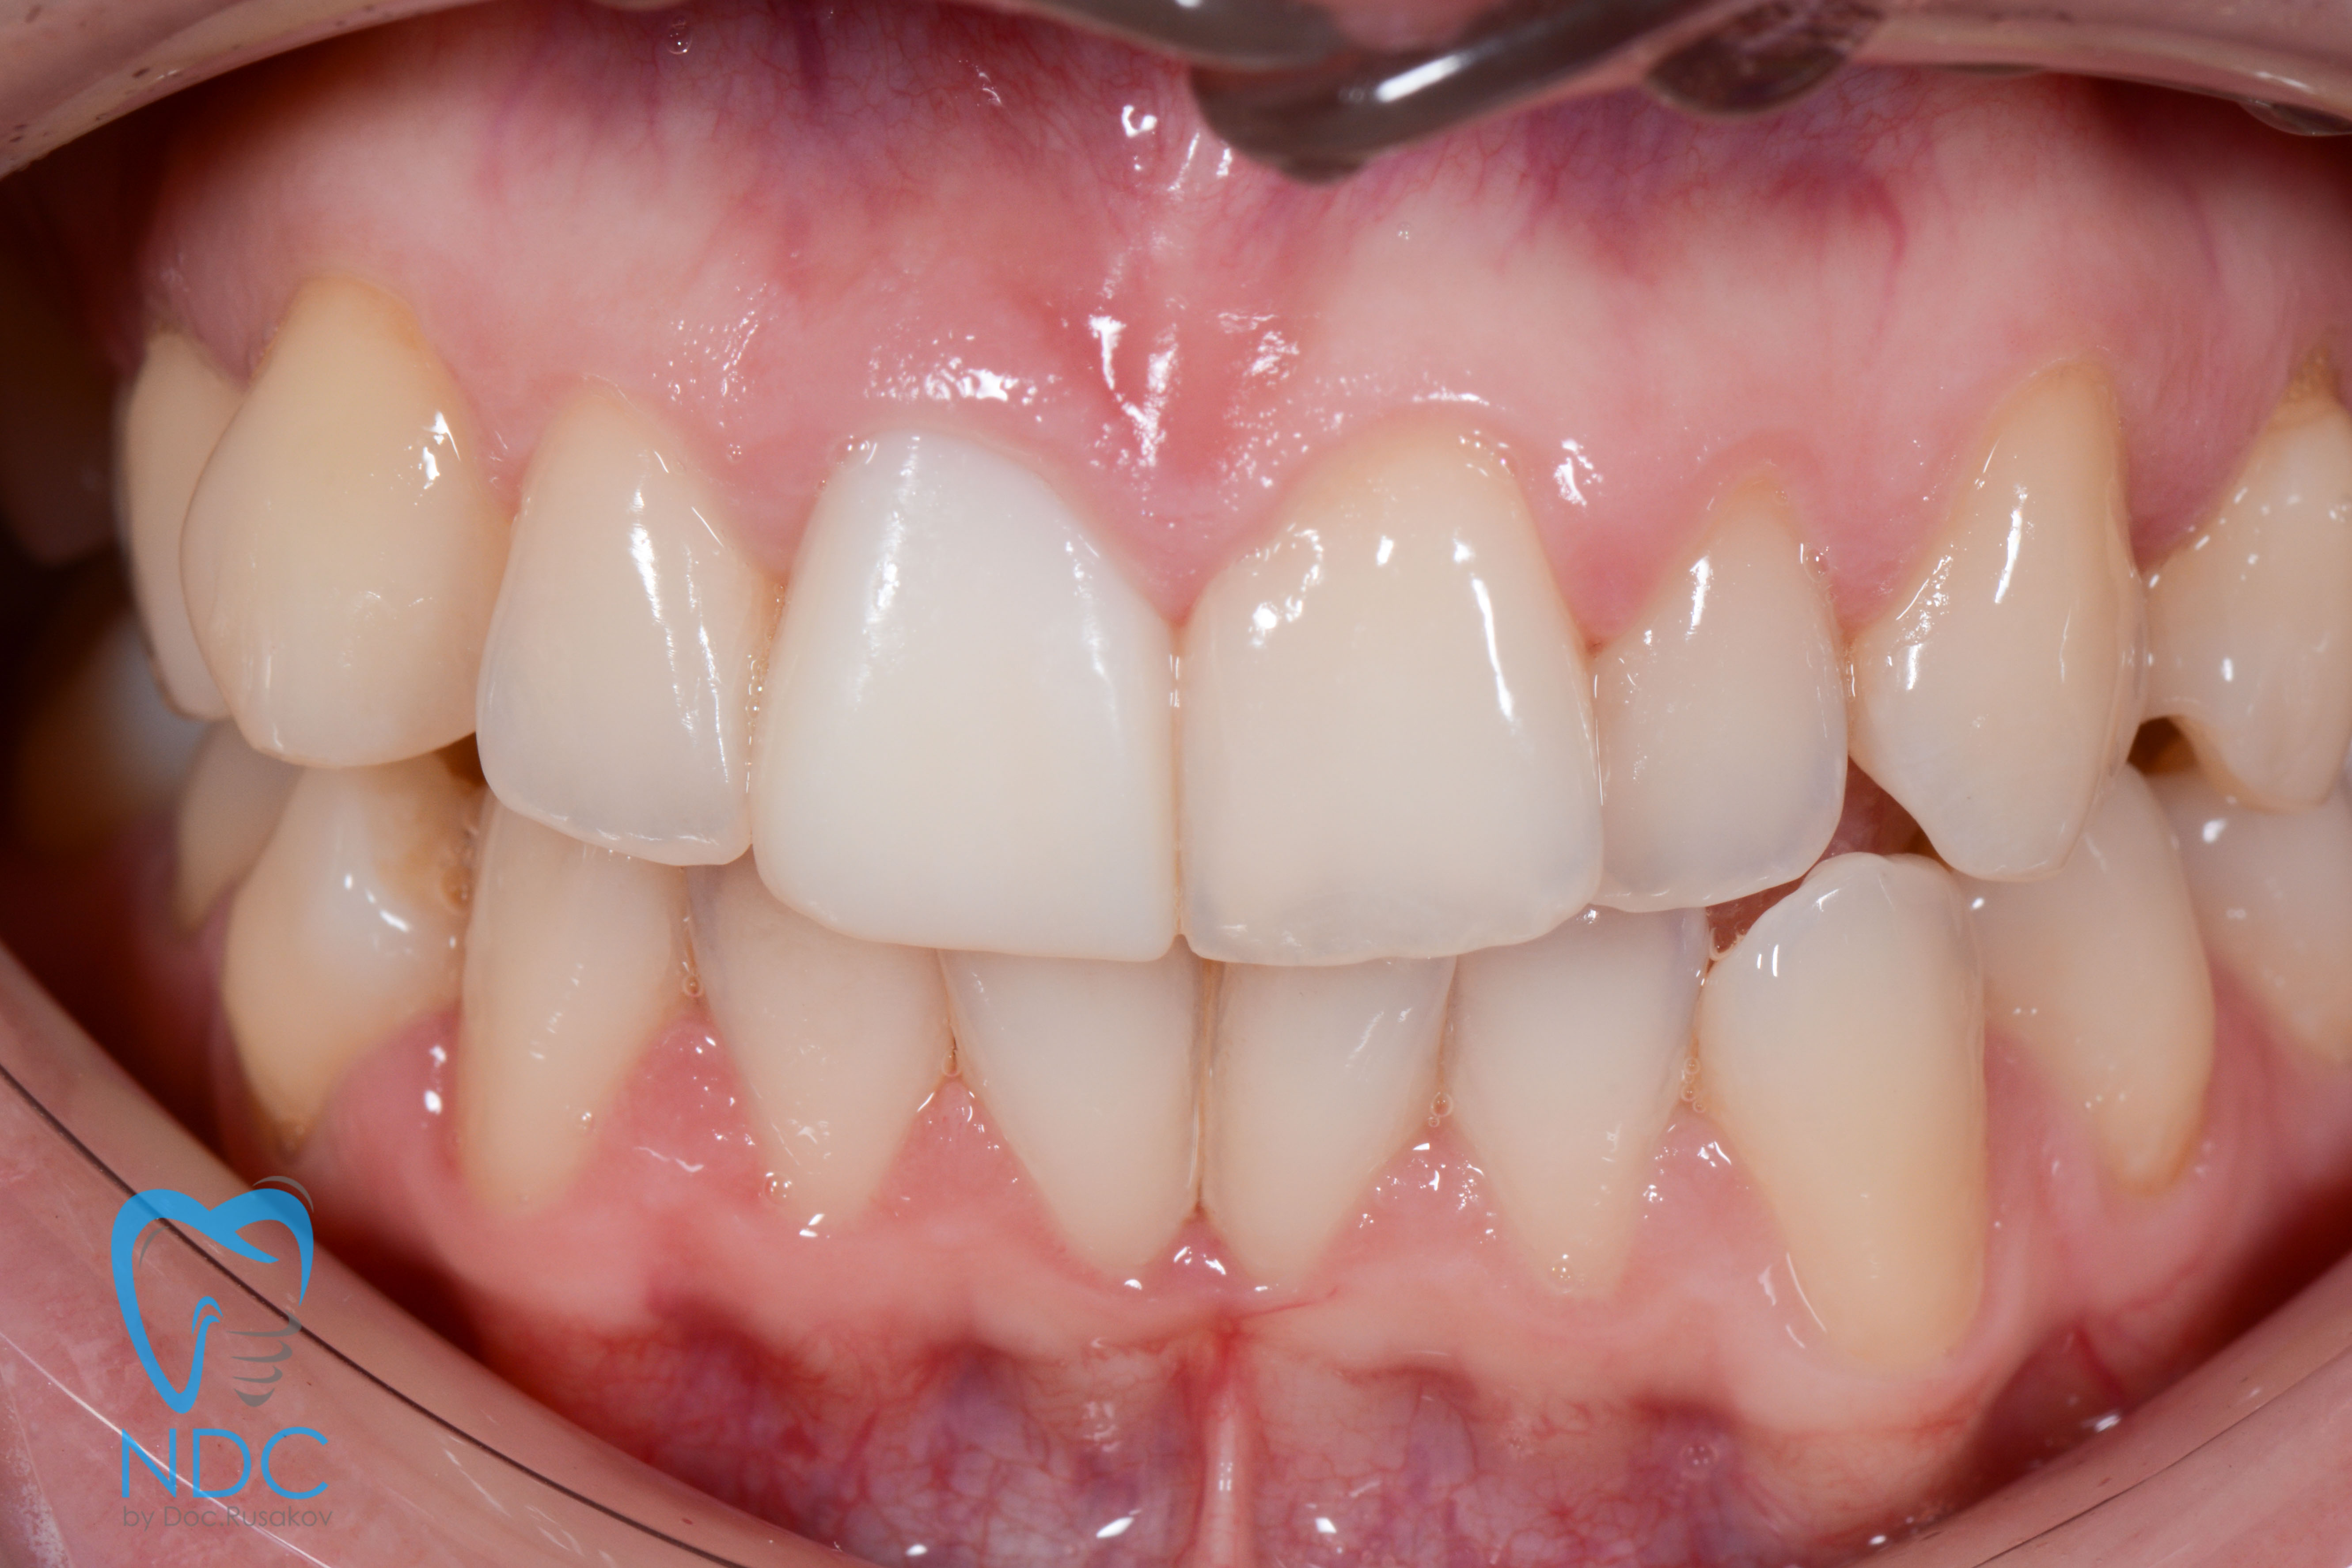LL1BC_healthy: (1988, 842, 2217, 1160)
LL2BC_healthy: (2212, 812, 2352, 1066)
LLCI_healthy: (1204, 968, 1445, 1272)
LLC_healthy: (1708, 856, 1988, 1344)
LLLI_healthy: (1456, 954, 1697, 1295)
LR1BC_healthy: (224, 782, 458, 1139)
LRCI_healthy: (945, 955, 1199, 1270)
LRC_healthy: (460, 828, 675, 1174)
LRLI_healthy: (682, 901, 941, 1207)
UL1BC_healthy: (2152, 401, 2348, 800)
ULCI_healthy: (1181, 439, 1606, 966)
ULC_healthy: (1841, 397, 2147, 875)
ULLI_healthy: (1603, 514, 1846, 912)
UR1BC_healthy: (121, 338, 215, 724)
URCI_healthy: (754, 436, 1181, 961)
URC_healthy: (178, 290, 497, 763)
URLI_healthy: (478, 409, 761, 868)
